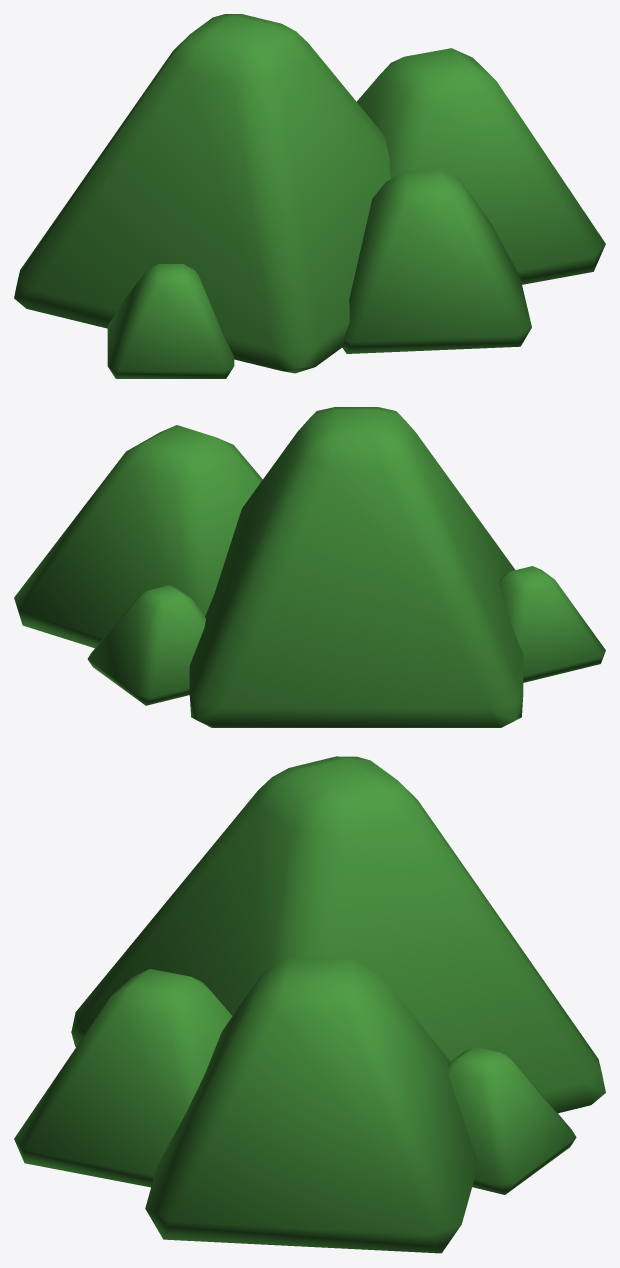
The model's file is plant_bush_4.glb.
The picture shows the model from 3 angles, top to bottom: view 1: azimuth 30°, elevation 25°; view 2: azimuth 150°, elevation 25°; view 3: azimuth 270°, elevation 25°; orthographic projection. The views are drawn at different scales.
Parts seen in each view (by area): view 1: plant_bush_4; view 2: plant_bush_4; view 3: plant_bush_4.
Boxes of the visible parts, x1,y1,x2,y2 form: plant_bush_4: (14, 14, 605, 378); plant_bush_4: (14, 407, 605, 727); plant_bush_4: (14, 756, 605, 1253).
Size of the model in its own units: 2.2 by 1.06 by 1.86.
